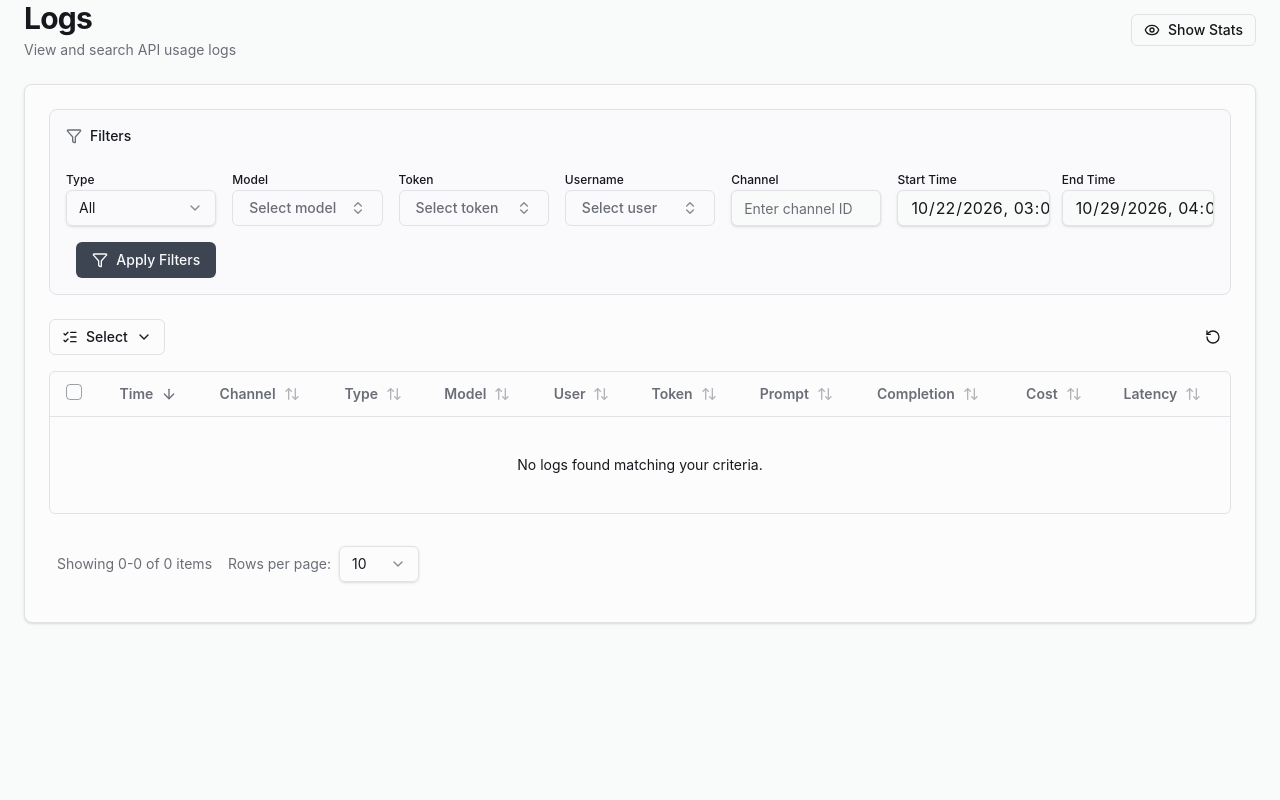
LogsPage action feedback › renders UUID-only token and user search results with unique keys in the filter dropdowns
Expected: the element named "Table controls" is shown, [49,319,1231,355]
Note: Token filter
Click the dropdown labelled "Select token" at (474, 208), box [399,190,549,226]
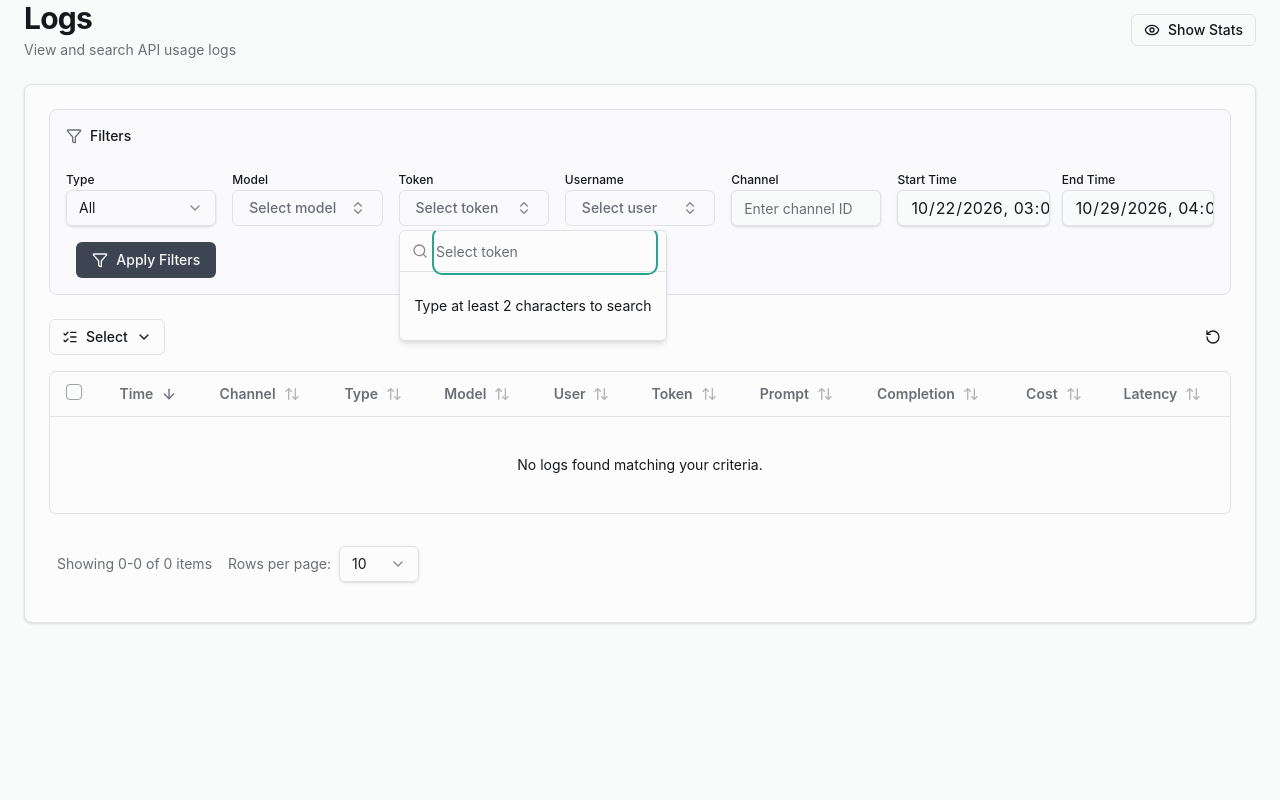
Type "al" into the 2nd dropdown with placeholder "Select token" at (545, 251), box [436,231,654,271]
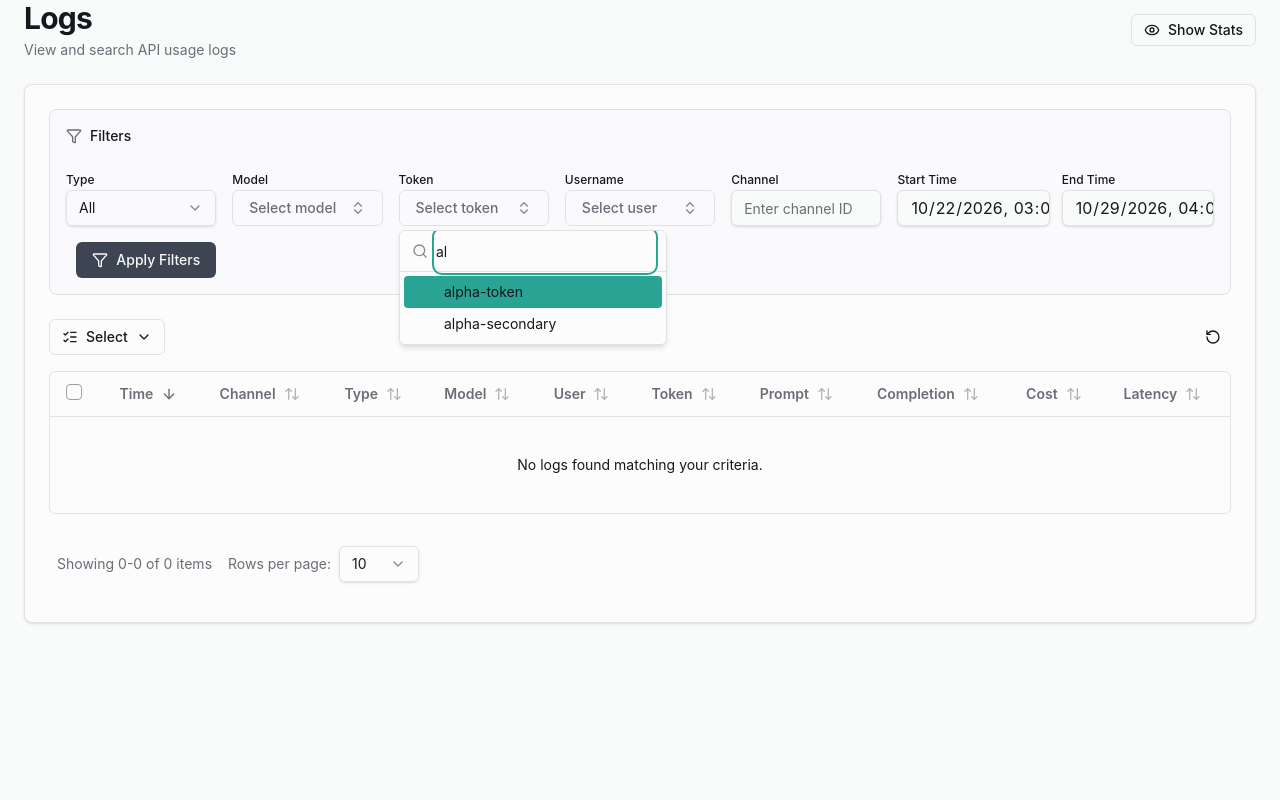
Result: the text "alpha-token" is shown at [444,283,523,300]
Result: the text "alpha-secondary" is shown at [444,315,556,332]
Press Escape
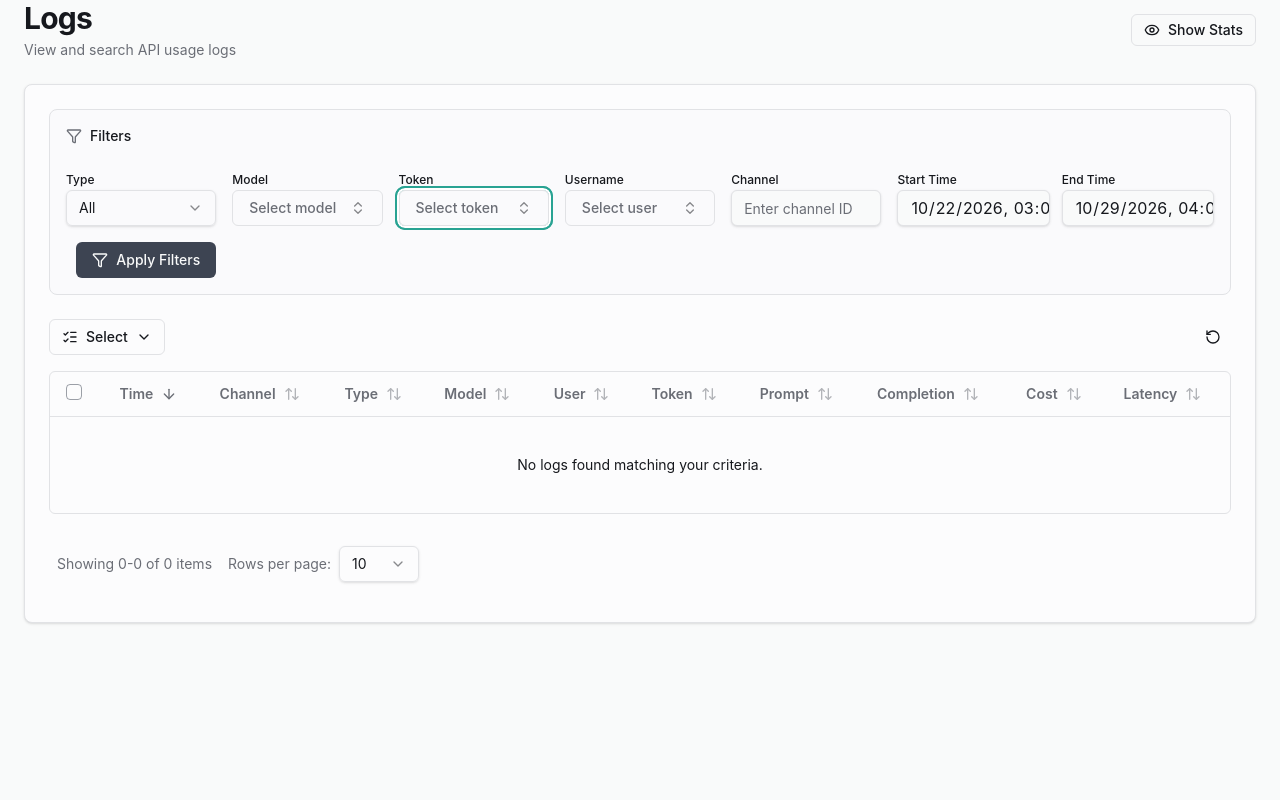
Note: Username filter
Click the dropdown labelled "Select user" at (640, 208), box [565,190,715,226]
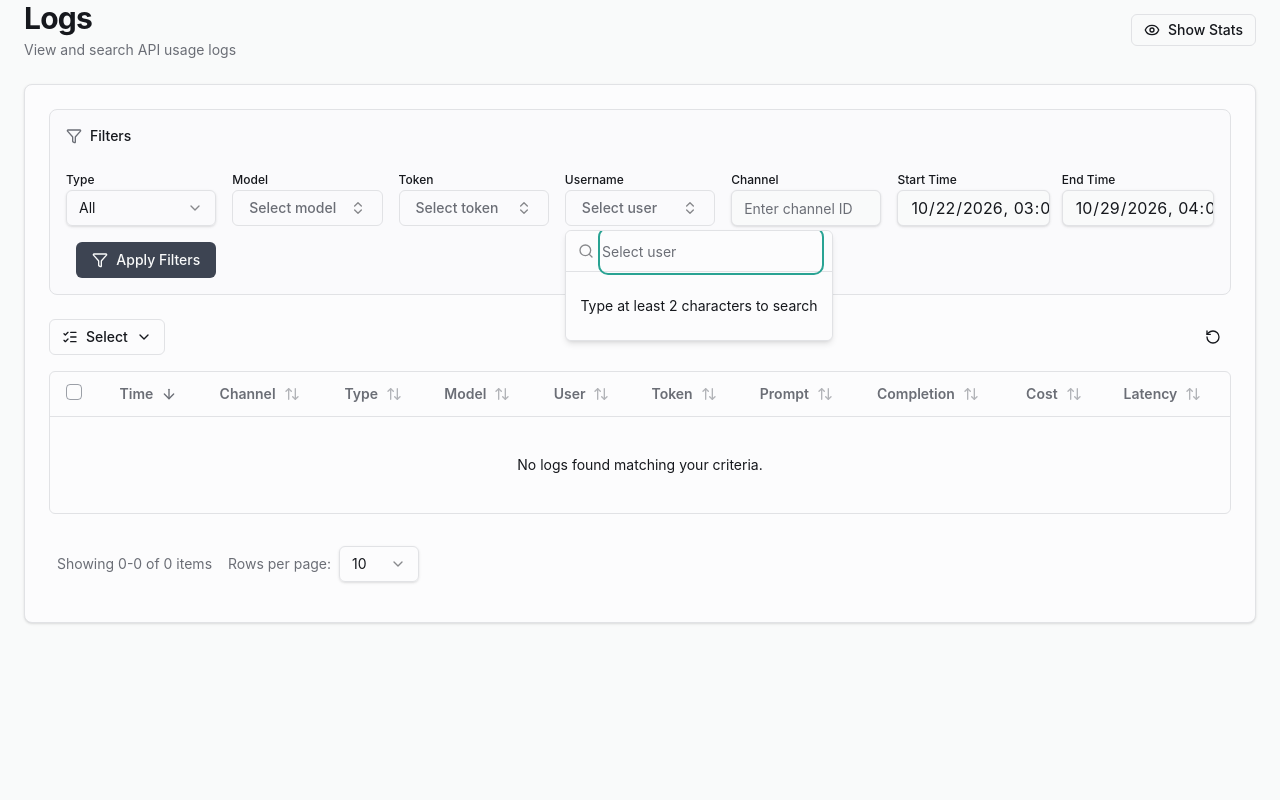
Type "al" into the 2nd dropdown with placeholder "Select user" at (711, 251), box [602,231,820,271]
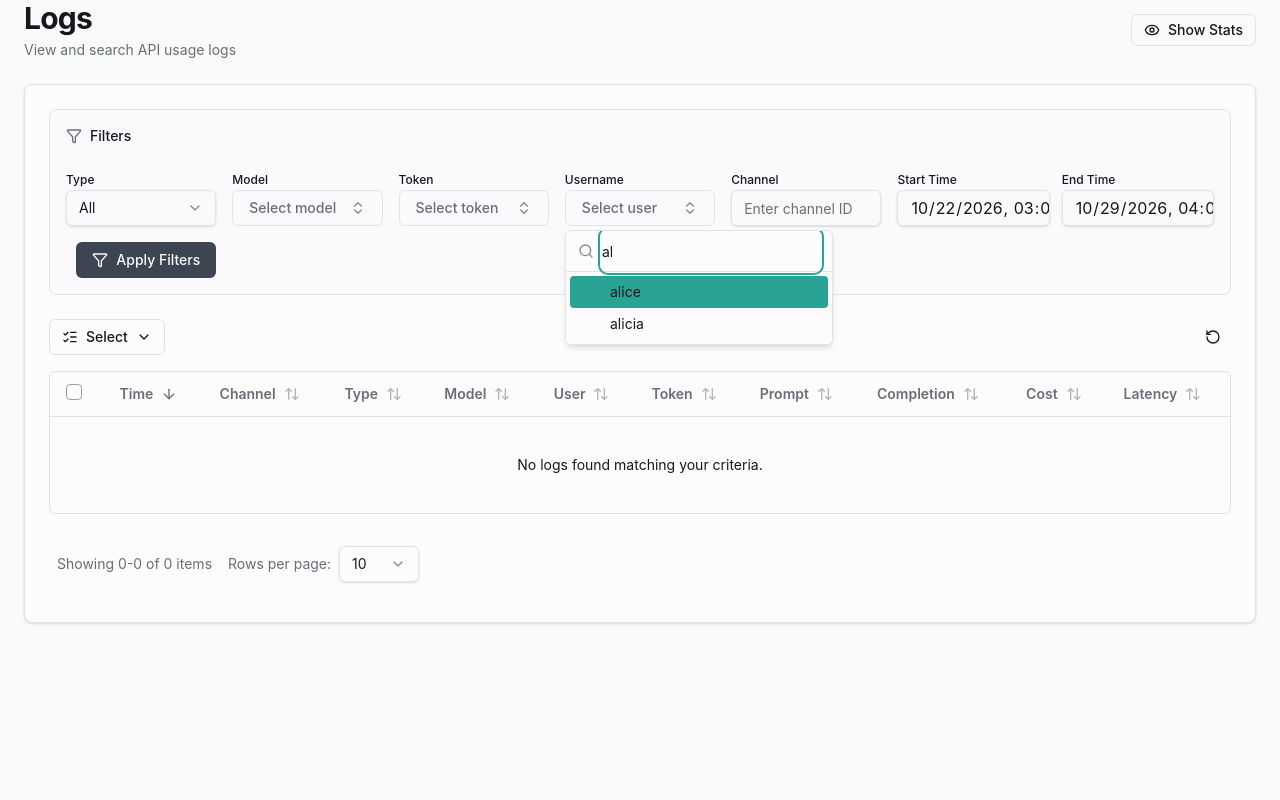
Result: the text "alice" is shown at [610,283,641,300]
Result: the text "alicia" is shown at [610,315,644,332]
